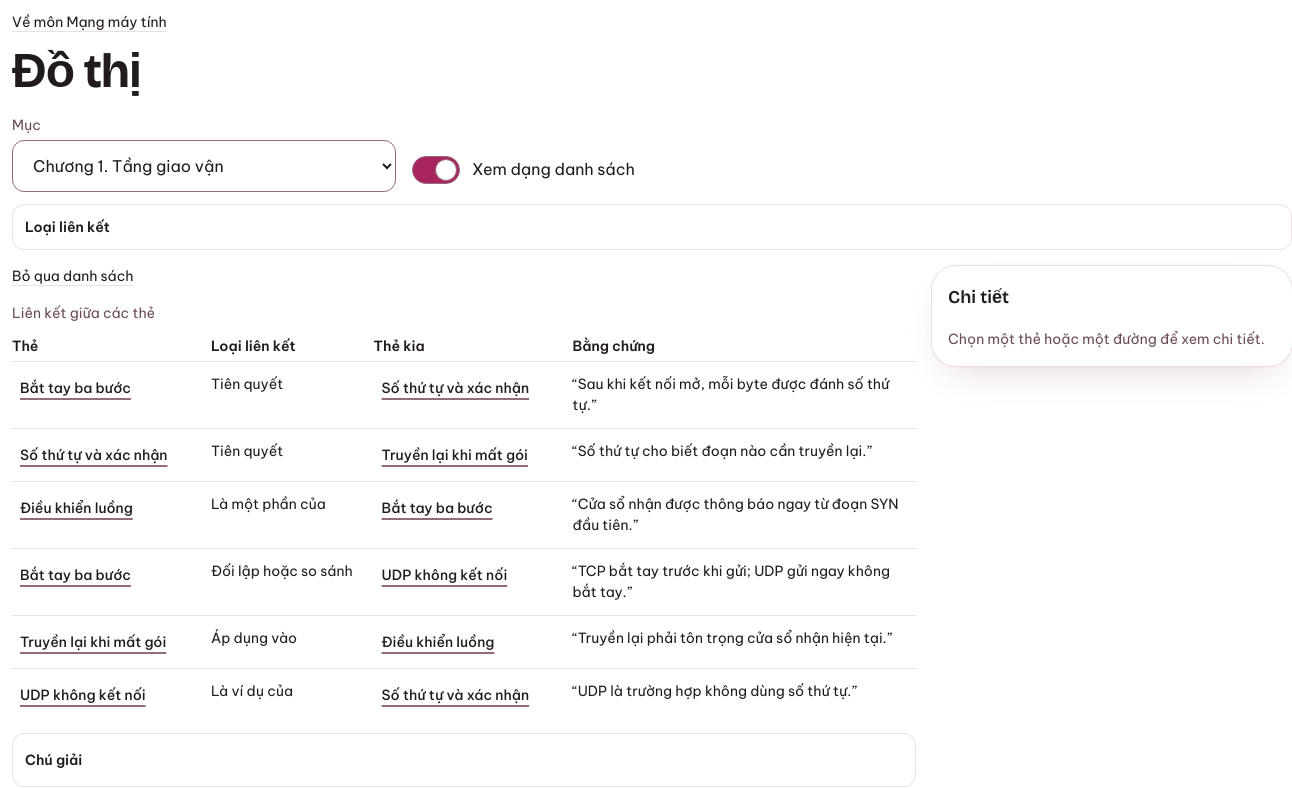
the tray › US-19 AC4: choosing a card shows the card, its anchor, and each link with its evidence
This screenshot has width=1292, height=789.
Click the button with aria-label "Chọn thẻ Bắt tay ba bước".
click(76, 388)  # box [12,366,139,410]
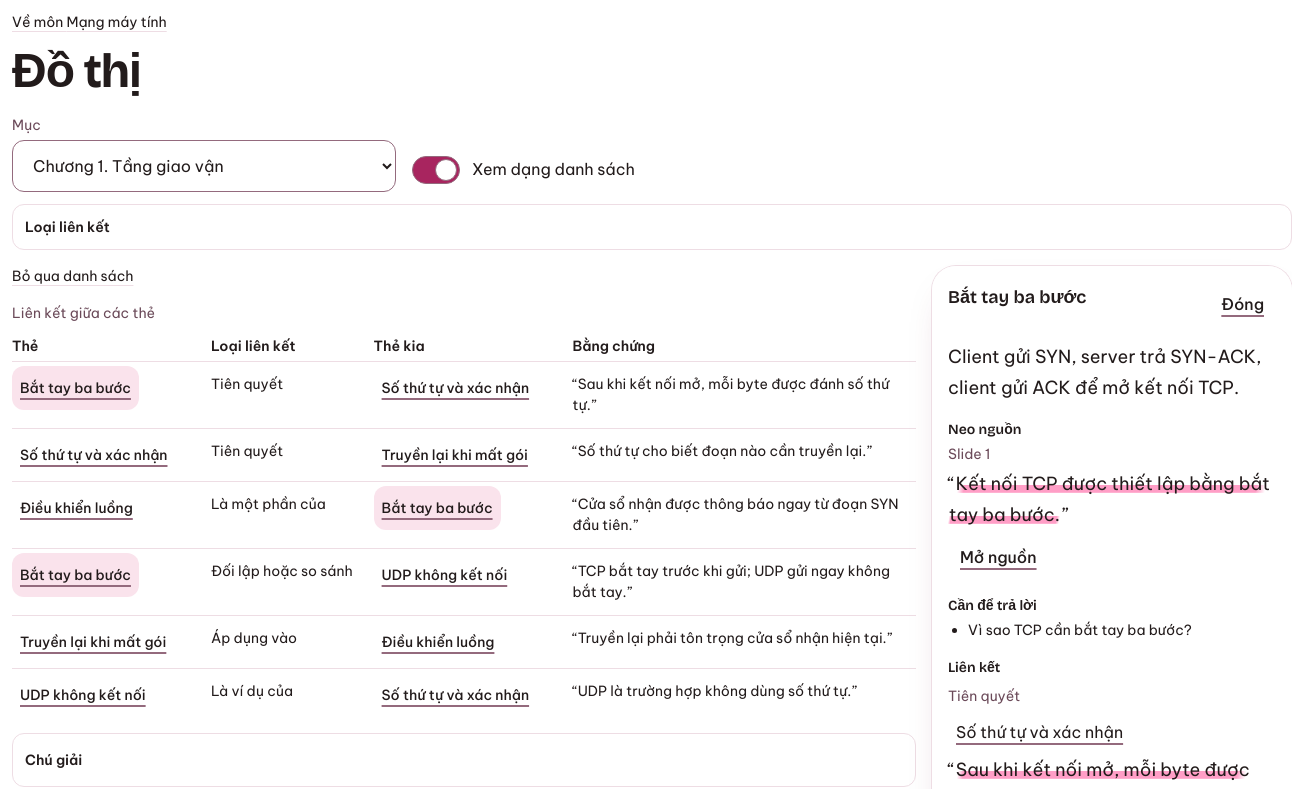
Check: the heading "Bắt tay ba bước" is shown, box [948,282,1086,313]
Check: the element that starts with "Bắt tay ba bước" shows "Kết nối TCP được thiết lập bằng bắt tay ba bước.", box [949,472,1270,526]
Check: the text "Tiên quyết" is shown, box [948,687,1020,705]
